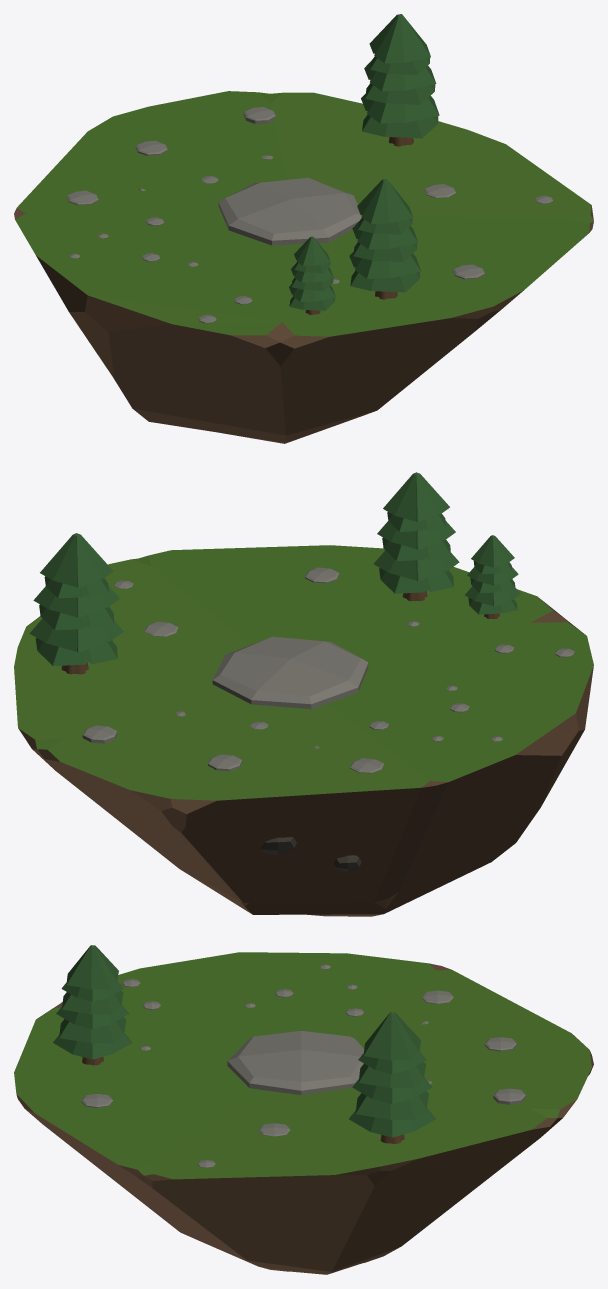
3 renders of one model, top to bottom at view 1: azimuth 30°, elevation 25°; view 2: azimuth 150°, elevation 25°; view 3: azimuth 270°, elevation 25°, orthographic. The views are drawn at different scales.
Visible parts, largest first — view 1: Cube.010, Cube.259_stone2.011_0.004, Cone.185, Cone.173, Cone.189, Cone.177, Cone.190, Cone.188, Cone.187, Cone.178, Cone.176, Cone.175 (+3 smaller); view 2: Cube.010, Cube.259_stone2.011_0.004, Cone.185, Cone.173, Cone.189, Cone.177, Cone.188, Cone.190, Cone.176, Cone.187, Cone.178, Cone.175 (+4 smaller); view 3: Cube.010, Cube.259_stone2.011_0.004, Cone.185, Cone.173, Cone.189, Cone.190, Cone.177, Cone.188, Cone.187, Cone.178, Cone.176, Cone.175 (+3 smaller).
Part boxes in pixels (<box>): Cube.010: <box>14,91,593,443</box>; Cube.259_stone2.011_0.004: <box>218,177,361,245</box>; Cone.185: <box>369,14,430,63</box>; Cone.173: <box>357,179,413,223</box>; Cone.189: <box>361,94,439,123</box>; Cone.177: <box>349,251,421,278</box>; Cone.190: <box>362,114,438,138</box>; Cone.188: <box>364,61,436,91</box>; Cone.187: <box>365,83,435,104</box>; Cone.178: <box>350,270,420,292</box>; Cone.176: <box>352,222,417,249</box>; Cone.175: <box>353,242,417,261</box>; Cube.010: <box>14,545,593,916</box>; Cube.259_stone2.011_0.004: <box>212,636,368,709</box>; Cone.185: <box>40,533,113,587</box>; Cone.173: <box>383,472,449,522</box>; Cone.189: <box>29,618,123,652</box>; Cone.177: <box>374,550,459,581</box>; Cone.188: <box>33,586,119,617</box>; Cone.190: <box>35,638,117,665</box>; Cone.176: <box>377,521,455,549</box>; Cone.187: <box>39,604,114,630</box>; Cone.178: <box>379,568,453,593</box>; Cone.175: <box>382,537,450,560</box>; Cube.010: <box>14,952,593,1274</box>; Cube.259_stone2.011_0.004: <box>227,1030,364,1094</box>; Cone.185: <box>363,1012,421,1060</box>; Cone.173: <box>66,945,118,989</box>; Cone.189: <box>355,1091,429,1119</box>; Cone.190: <box>349,1108,435,1137</box>; Cone.177: <box>59,1017,126,1043</box>; Cone.188: <box>358,1062,426,1087</box>; Cone.187: <box>352,1077,432,1104</box>; Cone.178: <box>53,1033,132,1059</box>; Cone.176: <box>62,990,123,1014</box>; Cone.175: <box>56,1004,129,1029</box>.
Bounding box in the file's own units: 12.45 × 8.5 × 13.35.
